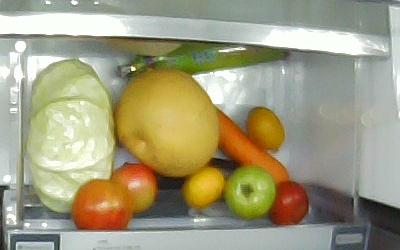cabbage: (31, 59, 116, 217)
carrot: (217, 109, 293, 189)
pear: (116, 70, 219, 176)
prune: (71, 178, 132, 230), (109, 162, 156, 213)
tangerine: (181, 168, 227, 209), (246, 104, 285, 152)
tomato: (228, 165, 278, 220), (272, 182, 308, 225)
zucchini: (114, 42, 290, 77)
